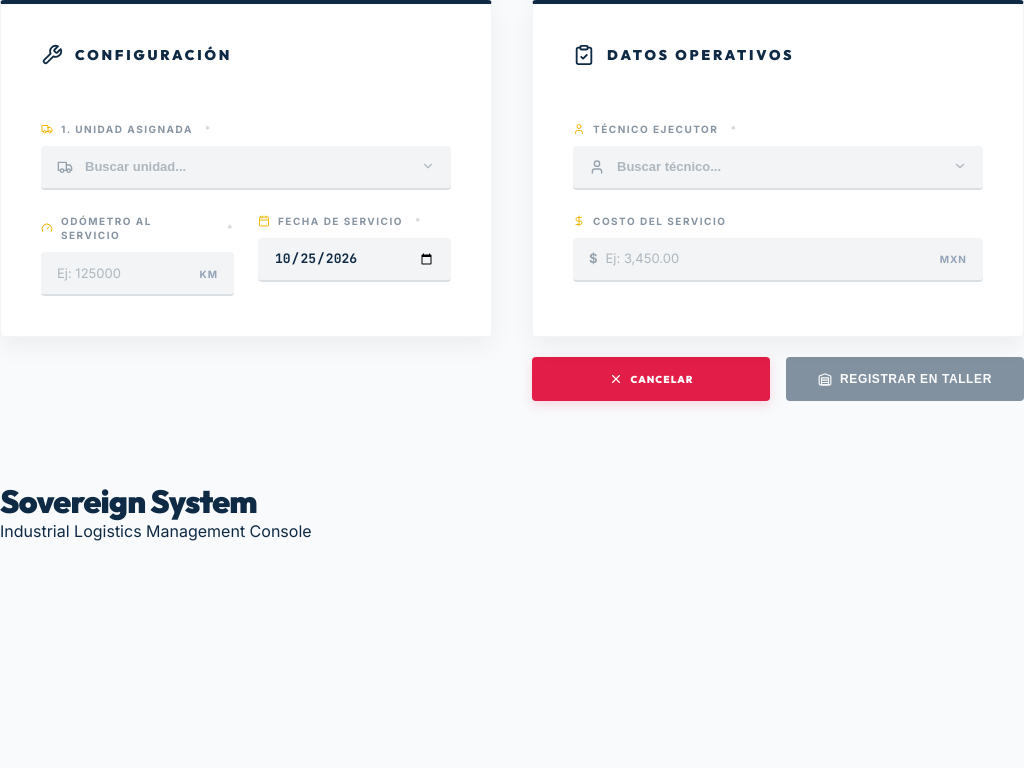
Scenario: MaintenanceRegistrationForm › Should update task status when encargado selects No Aplica
Click the button "Buscar unidad..." at (136, 167), box [41, 146, 451, 190]
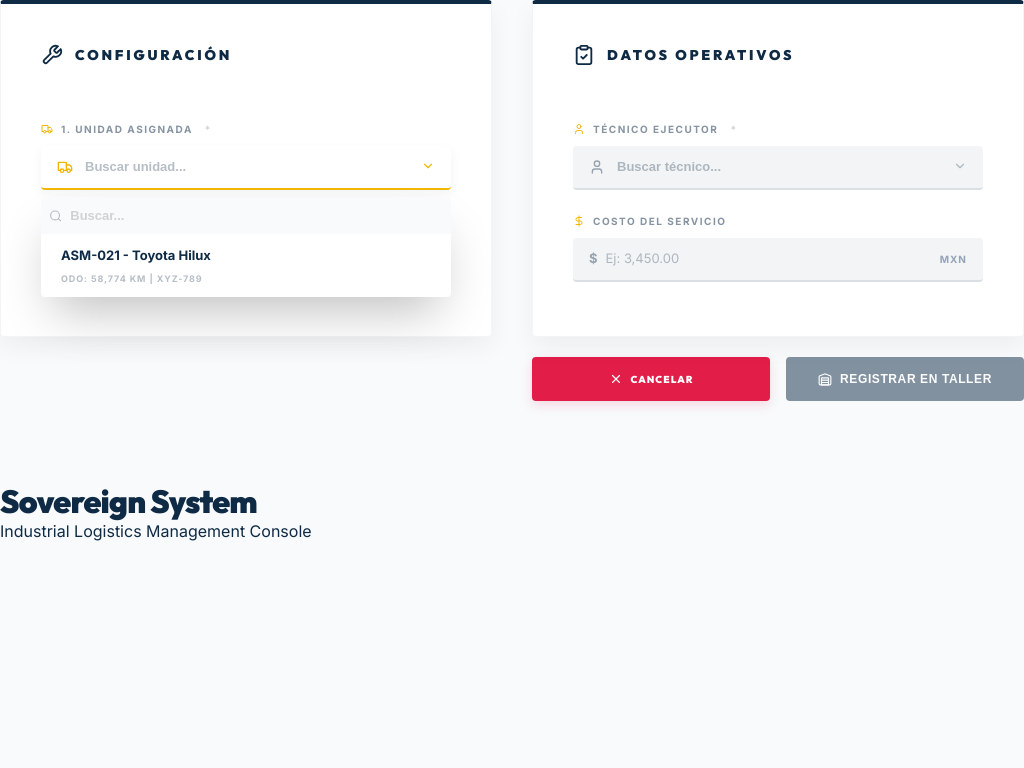
Click the text "ASM-021 - Toyota Hilux" at (136, 255), box [61, 246, 211, 265]
(page scrolled)
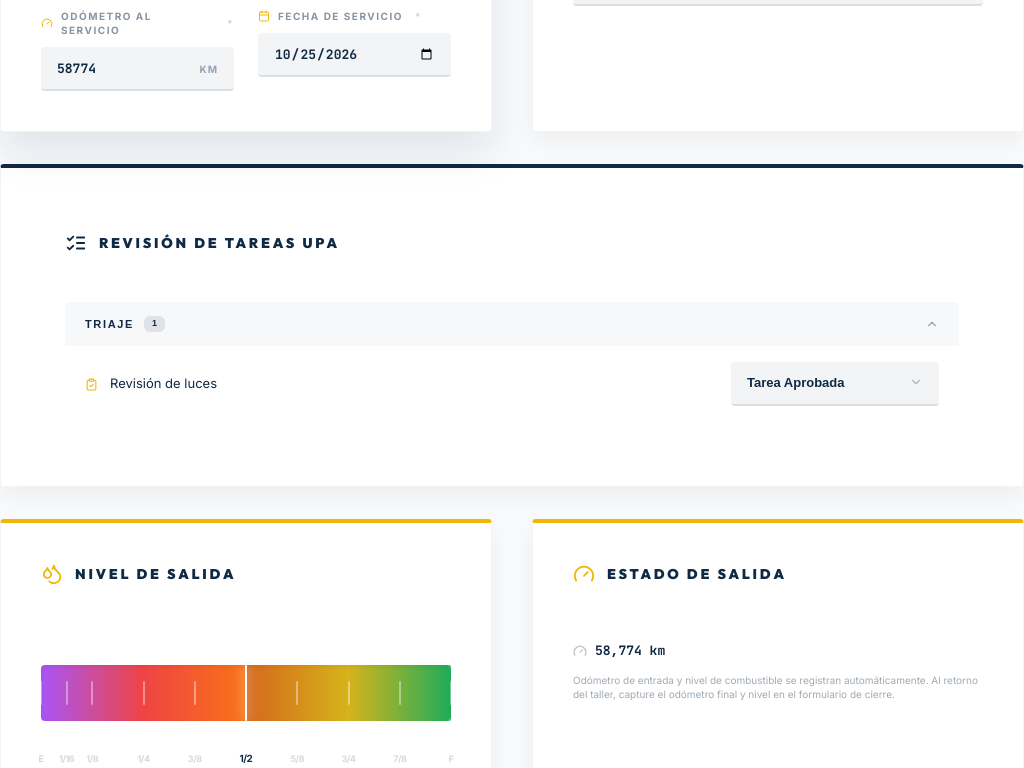
Expected: the text "Revisión de luces" is shown, [110, 375, 217, 391]
Click the button "Tarea Aprobada" at (835, 384), box [731, 362, 939, 406]
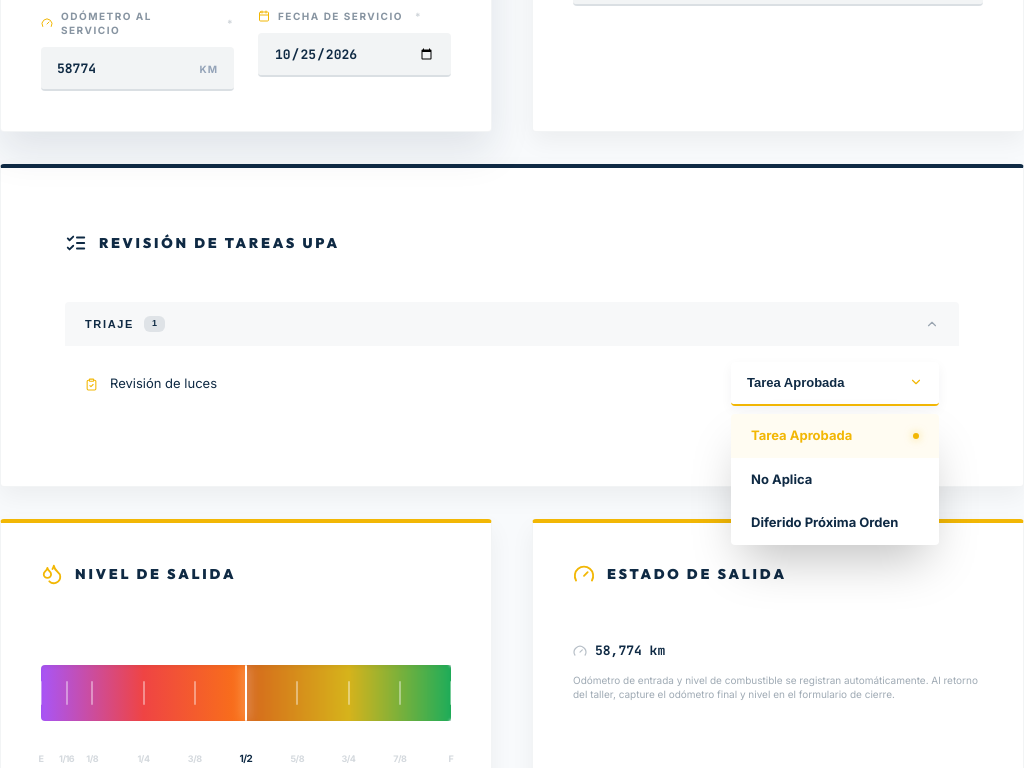
Click the option "No Aplica" at (782, 479), box [751, 471, 812, 487]
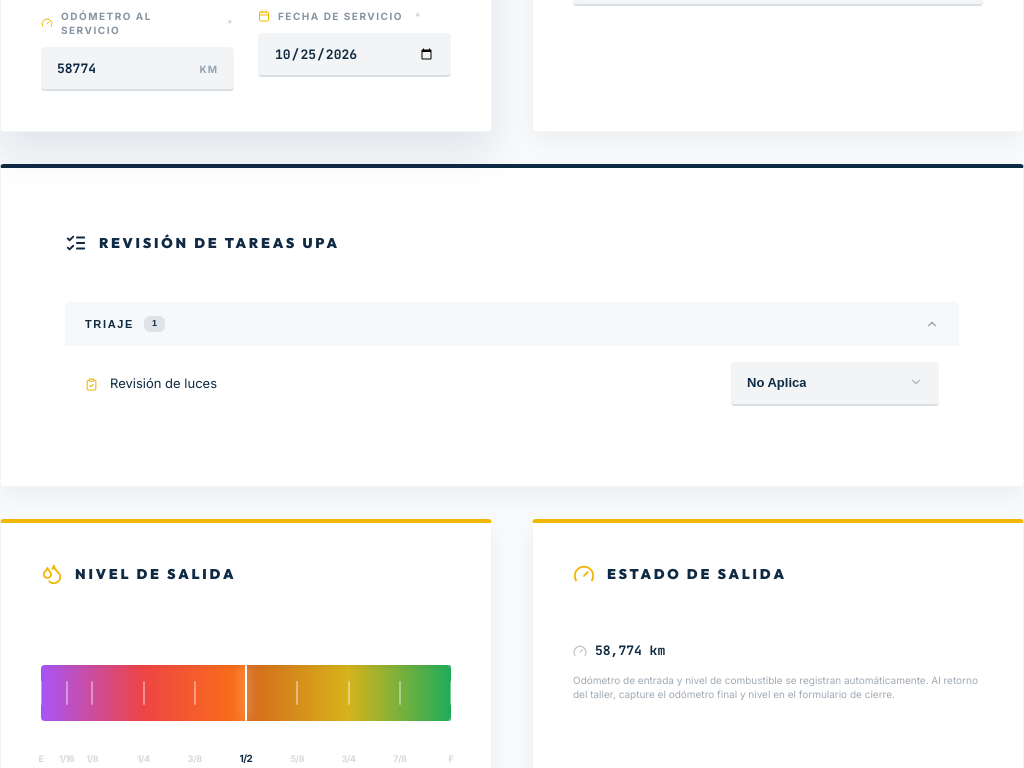
Expected: the text "No Aplica" is shown, [747, 373, 806, 393]
Expected: the button "Tarea Aprobada" is gone
